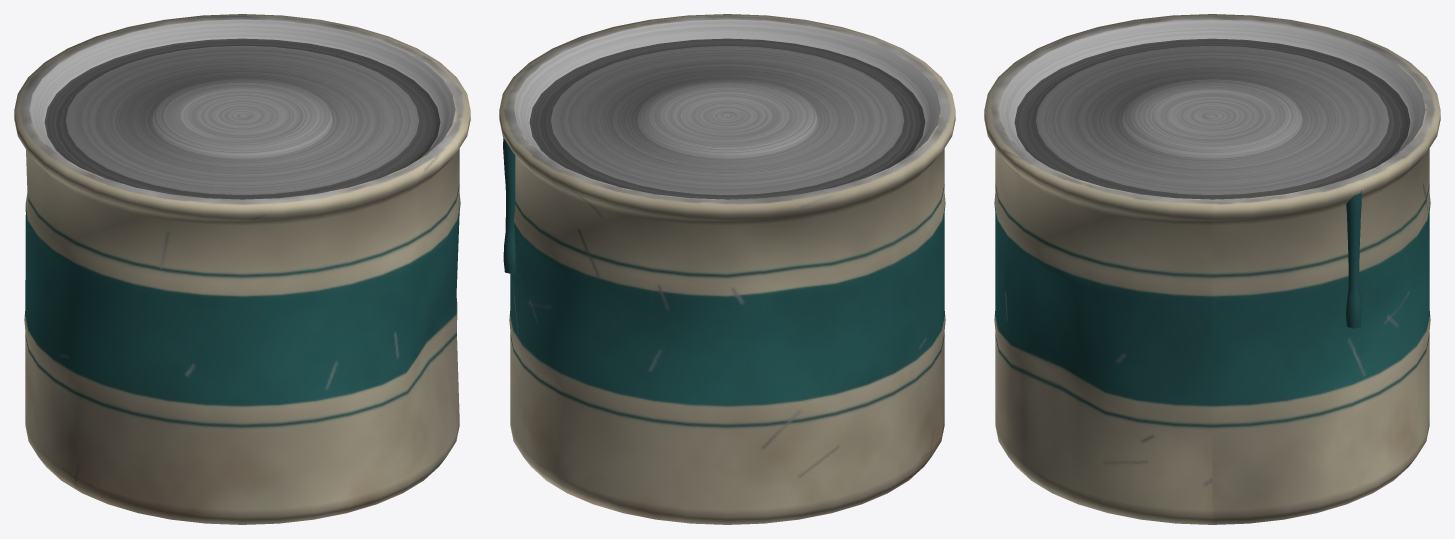
File: mess-can.glb
The picture shows the model from 3 angles, left to right: view 1: azimuth 30°, elevation 25°; view 2: azimuth 150°, elevation 25°; view 3: azimuth 270°, elevation 25°; orthographic projection.
Parts seen in each view (by area): view 1: mess-can; view 2: mess-can; view 3: mess-can.
Boxes of the visible parts, bbox=[...] form: mess-can: bbox=[14, 14, 470, 524]; mess-can: bbox=[499, 14, 955, 524]; mess-can: bbox=[984, 14, 1440, 524].
Size of the model in its own units: 0.227 by 0.1815 by 0.227.
1 material, 1 textured.
